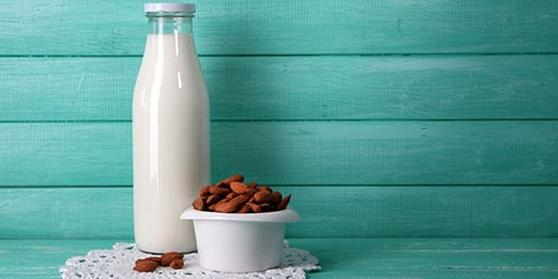milk: (124, 1, 208, 257)
